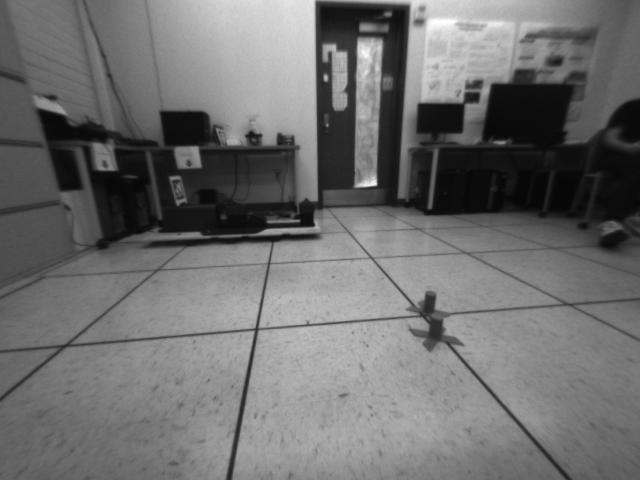X: (408, 311, 466, 353), (405, 288, 452, 325)
